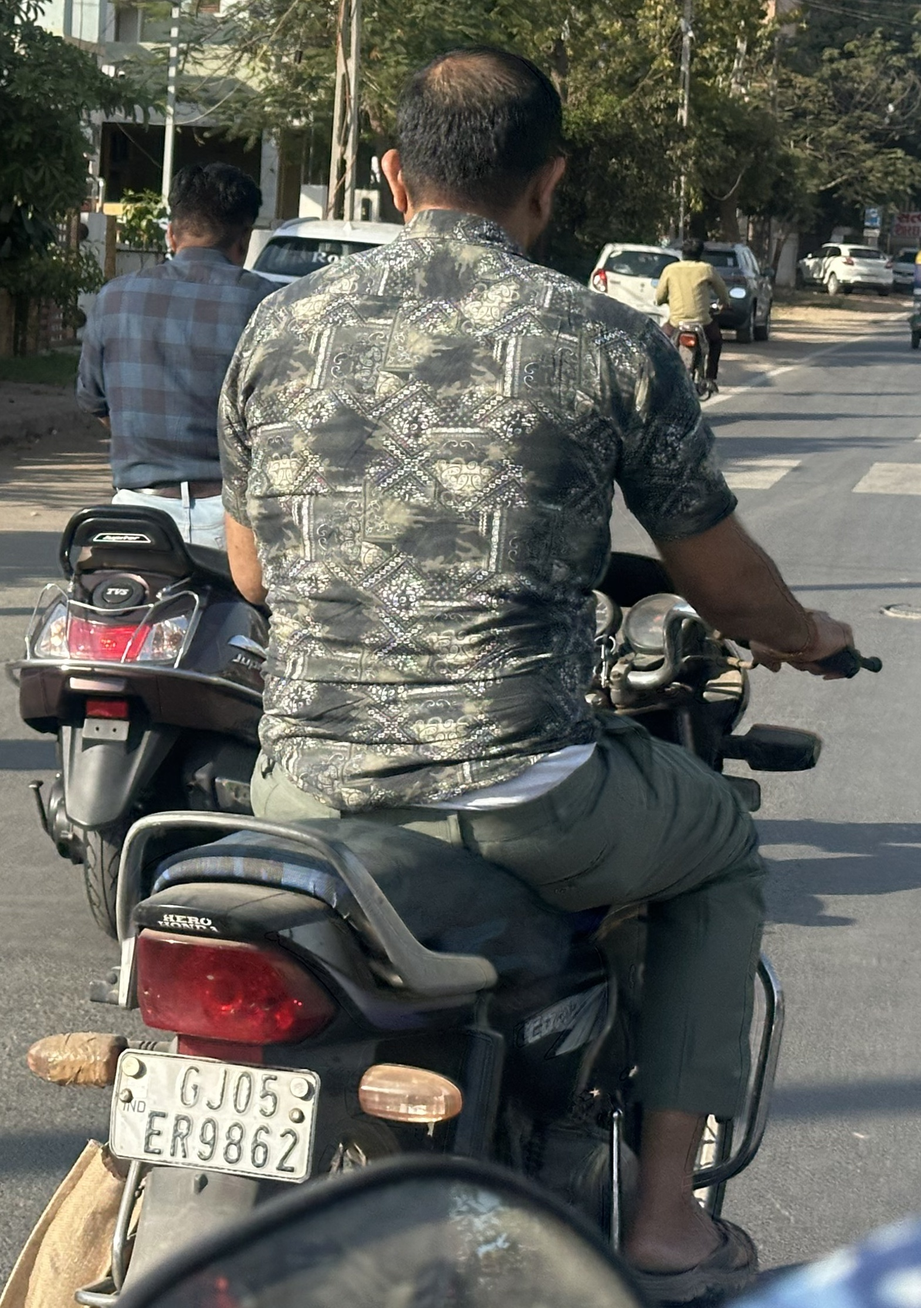BikeWithRider: (8, 39, 881, 1308), (0, 149, 327, 954), (636, 215, 750, 413)
NoHelmet: (368, 45, 582, 252), (161, 163, 257, 276), (668, 227, 715, 270)
